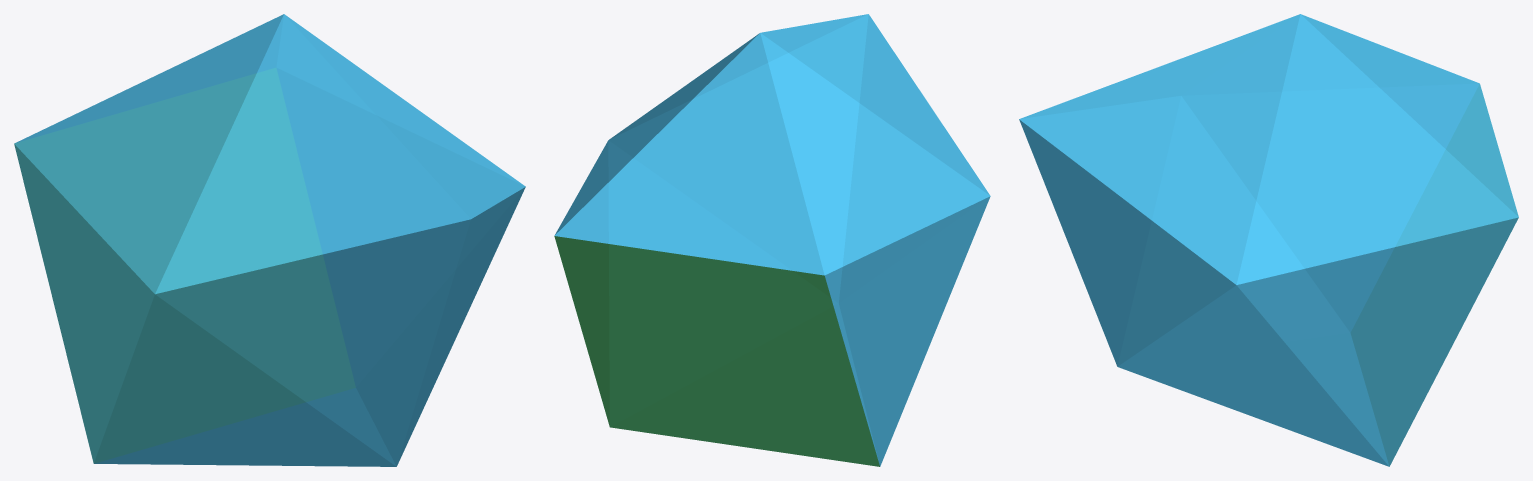
The model's file is j10_gyroelongated_square_pyramid.obj.
The picture shows the model from 3 angles, left to right: view 1: azimuth 30°, elevation 25°; view 2: azimuth 150°, elevation 25°; view 3: azimuth 270°, elevation 25°; orthographic projection. The views are drawn at different scales.
Size of the model in its own units: 1.64 by 1.72 by 1.95.
